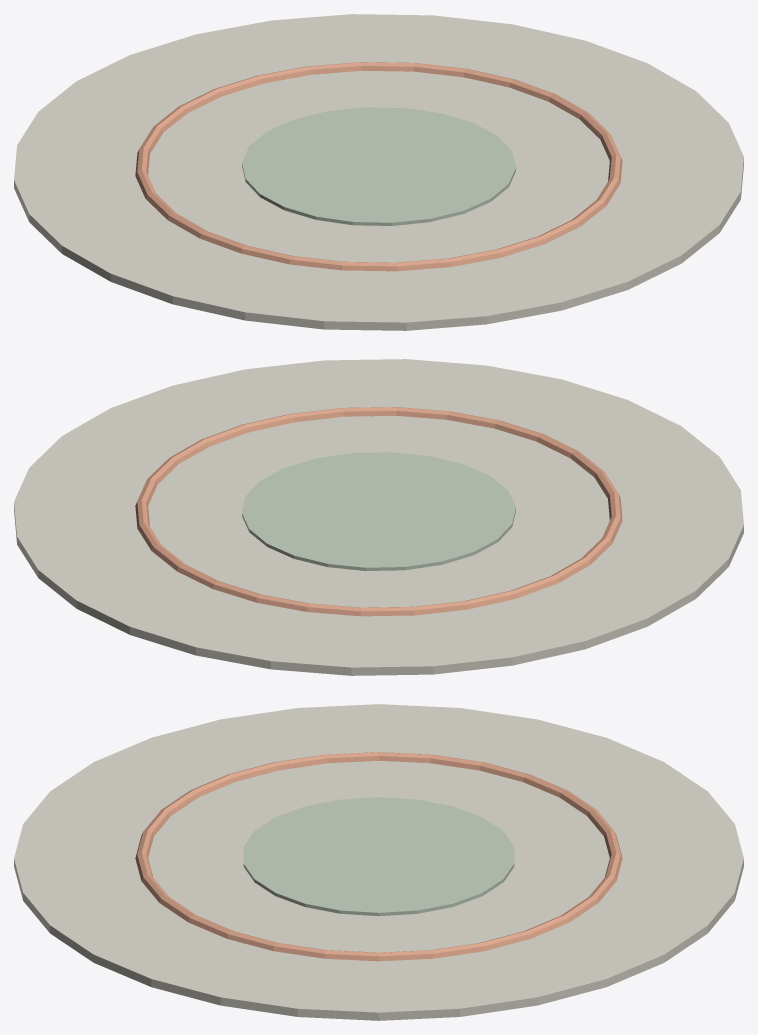
File: jute_rug.glb
3 views of the same model, one above another, from view 1: azimuth 30°, elevation 25°; view 2: azimuth 150°, elevation 25°; view 3: azimuth 270°, elevation 25° (orthographic).
Parts seen in each view (by area): view 1: rug-round-jute; view 2: rug-round-jute; view 3: rug-round-jute.
Part boxes in pixels (<box>): rug-round-jute: <box>14,14,743,330</box>; rug-round-jute: <box>14,359,743,675</box>; rug-round-jute: <box>14,704,743,1020</box>.
Size of the model in its own units: 1.6 by 0.034 by 1.6.
